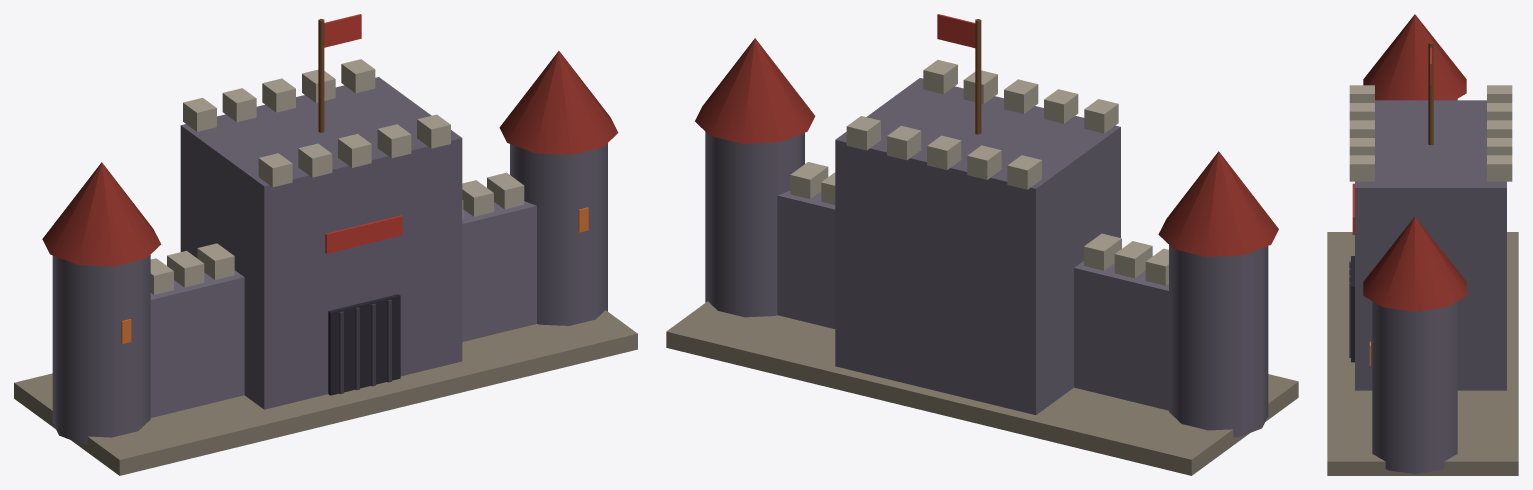
File: forte.fbx
3 renders of one model, left to right at view 1: azimuth 30°, elevation 25°; view 2: azimuth 150°, elevation 25°; view 3: azimuth 270°, elevation 25°, orthographic. The views are drawn at different scales.
Parts seen in each view (by area): view 1: forte; view 2: forte; view 3: forte.
Part boxes in pixels (bbox=[...]): forte: bbox=[14, 14, 637, 475]; forte: bbox=[666, 14, 1298, 475]; forte: bbox=[1327, 14, 1518, 475].
Bounding box in the file's own units: 3.68 × 2.2 × 1.2.
